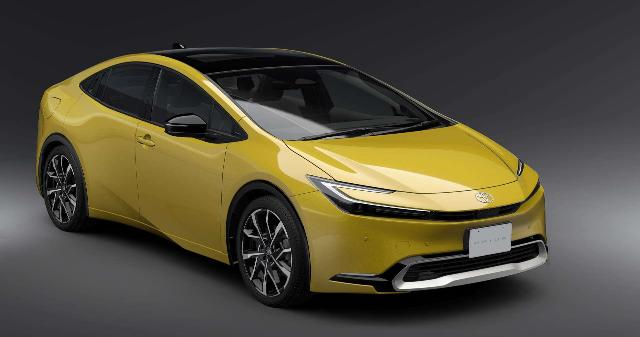toyota: (36, 43, 548, 307)
